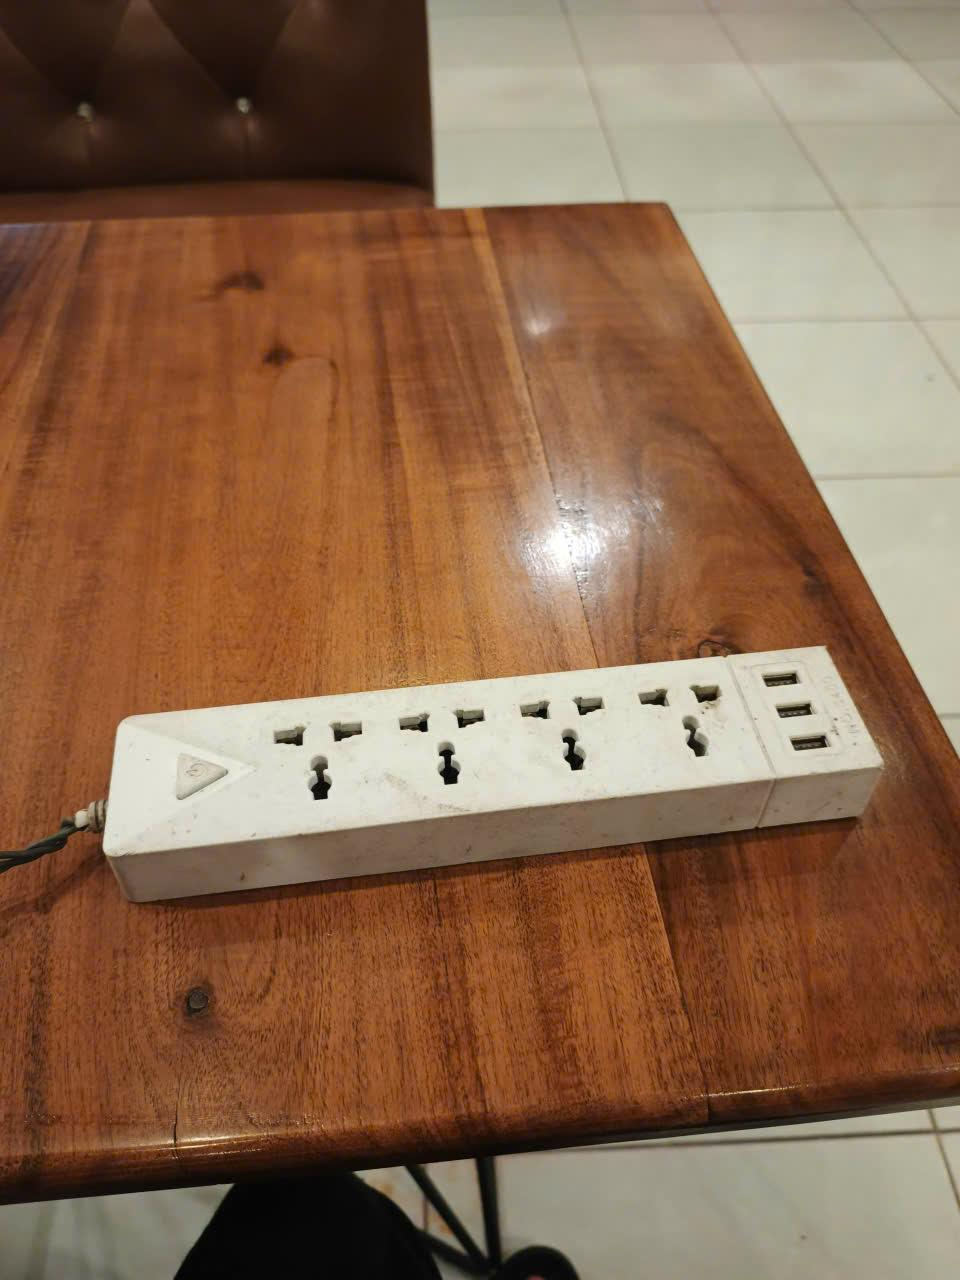Con lai: (100, 643, 892, 907)
